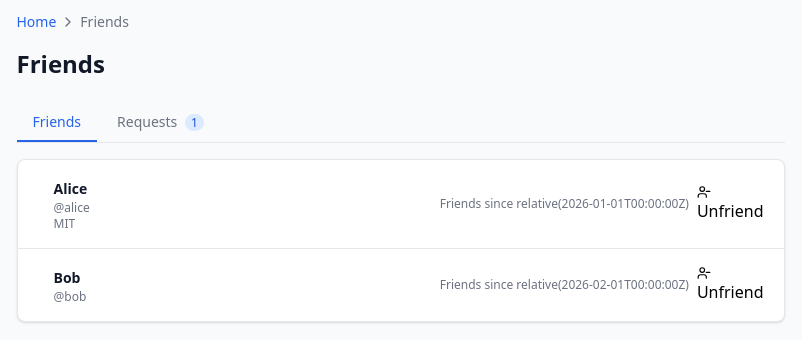
Test: FriendsView › separates outgoing from incoming requests using ID comparison, not reference equality
What coordinates should you click on to do the following:
click the tab "Requests 1"
I would click on:
 (160, 123)
Its box is [101,104,220,142].
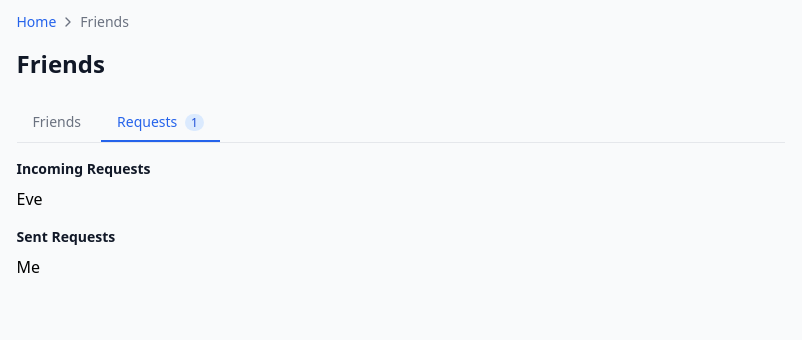
expect the text "Incoming Requests" is shown: met, box [16,159,151,178]
expect the text "Sent Requests" is shown: met, box [16,227,115,246]
expect the number of elements with class "friend-request-card" is 2: met, box [16,188,43,210]; [16,256,40,278]
